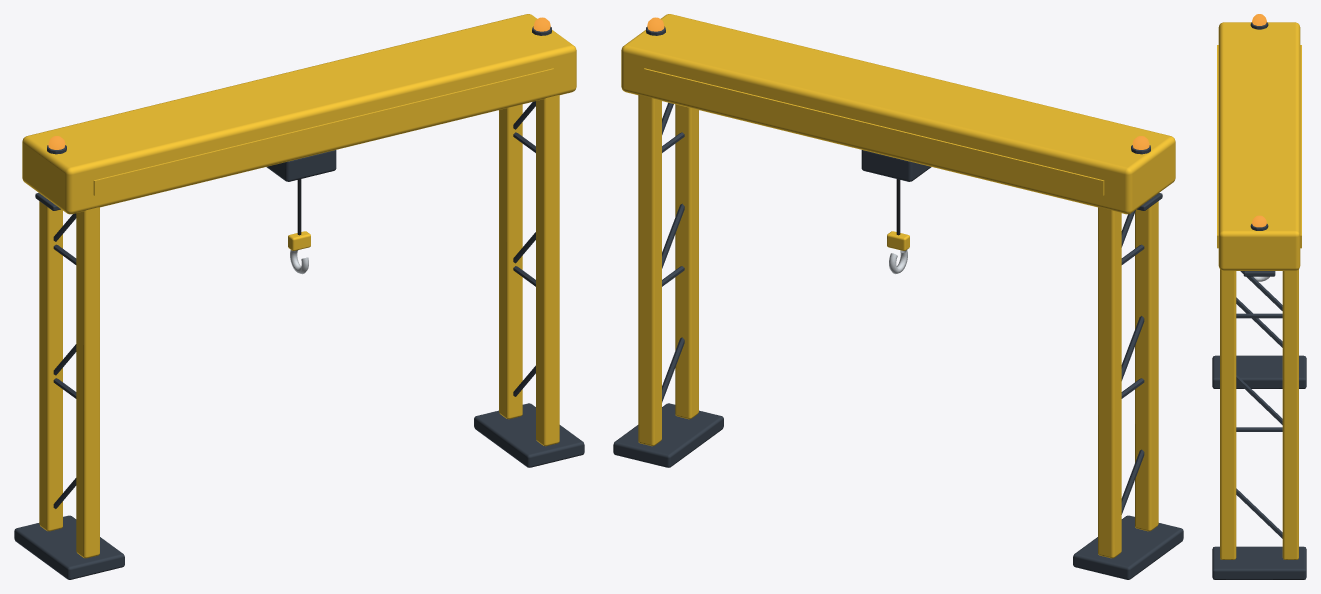
File: gantry.glb
The picture shows the model from 3 angles, left to right: view 1: azimuth 30°, elevation 25°; view 2: azimuth 150°, elevation 25°; view 3: azimuth 270°, elevation 25°; orthographic projection. The views are drawn at different scales.
Parts seen in each view (by area): view 1: gantry_body, trolley; view 2: gantry_body, trolley; view 3: gantry_body.
Part boxes in pixels (left/top/right/bottom): gantry_body: left=14, top=14, right=584, bottom=579; trolley: left=266, top=150, right=336, bottom=274; gantry_body: left=613, top=14, right=1183, bottom=579; trolley: left=861, top=150, right=931, bottom=274; gantry_body: left=1212, top=14, right=1306, bottom=579.
Size of the model in its own units: 8.1 by 6.3 by 1.5.
